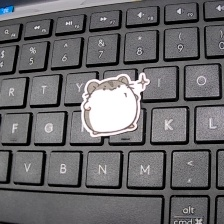mouse: (80, 70, 156, 139)
